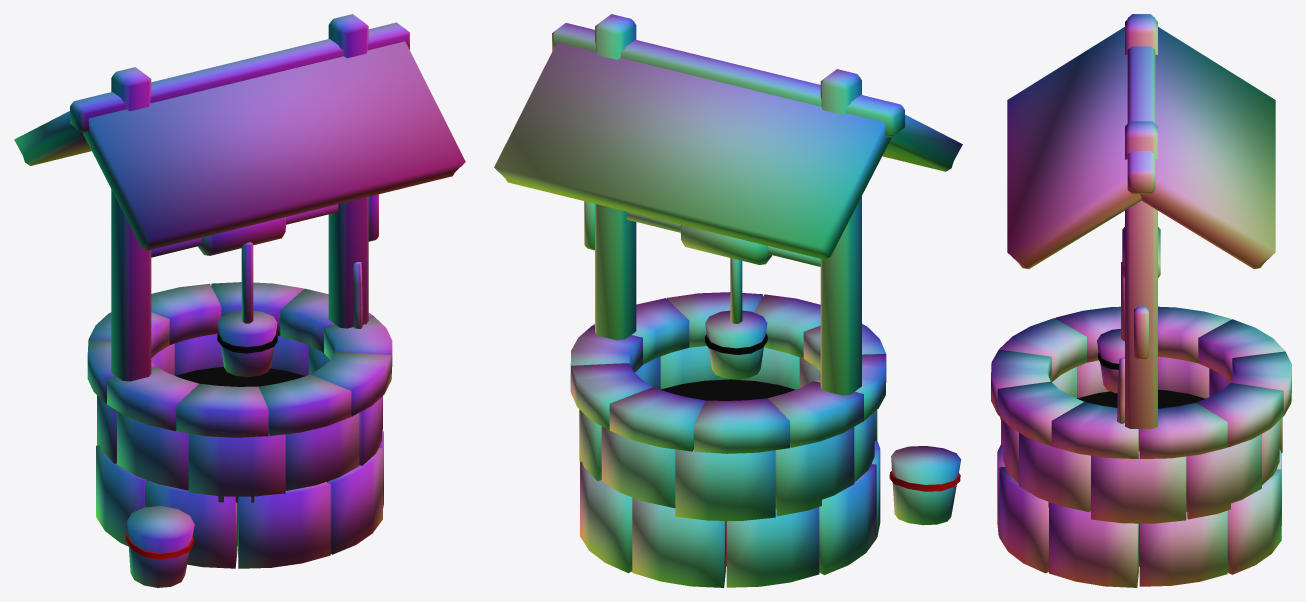
Rendered from SM_Prop_March_Well.fbx.
The picture shows the model from 3 angles, left to right: view 1: azimuth 30°, elevation 25°; view 2: azimuth 150°, elevation 25°; view 3: azimuth 270°, elevation 25°; orthographic projection. The views are drawn at different scales.
Visible parts, largest first — view 1: SM_Prop_March_Well; view 2: SM_Prop_March_Well; view 3: SM_Prop_March_Well.
Boxes of the visible parts, x1,y1,x2,y2 form: SM_Prop_March_Well: [14, 14, 465, 587]; SM_Prop_March_Well: [494, 14, 962, 587]; SM_Prop_March_Well: [991, 14, 1291, 587].
Size of the model in its own units: 1.52 by 2.03 by 1.21.
